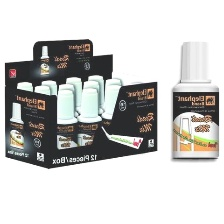book: (3, 37, 160, 170)
correction_fluid: (170, 39, 220, 163), (45, 88, 80, 161), (72, 84, 105, 158), (100, 83, 132, 153)
